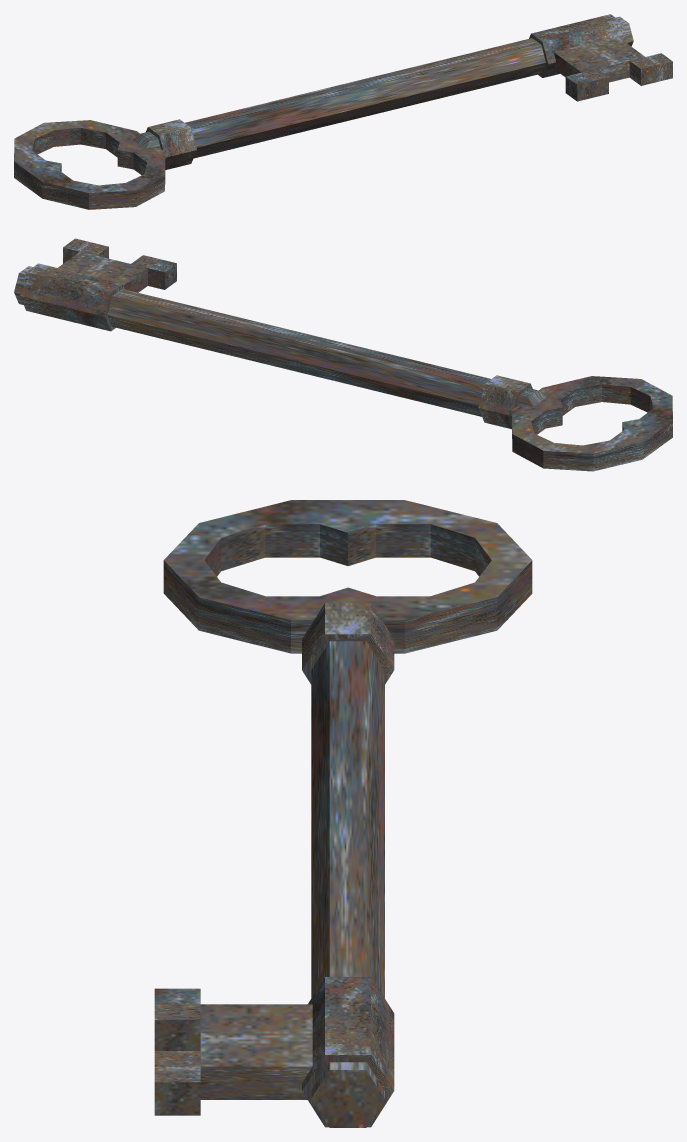
The model's file is old_key_1.fbx.
3 views of the same model, one above another, from view 1: azimuth 30°, elevation 25°; view 2: azimuth 150°, elevation 25°; view 3: azimuth 270°, elevation 25° (orthographic). The views are drawn at different scales.
Visible parts, largest first — view 1: Cube.001; view 2: Cube.001; view 3: Cube.001.
Part boxes in pixels (left/top/right/bottom): Cube.001: left=14, top=14, right=672, bottom=209; Cube.001: left=14, top=238, right=672, bottom=471; Cube.001: left=154, top=500, right=532, bottom=1127.
Size of the model in its own units: 747 by 43.3 by 205.
